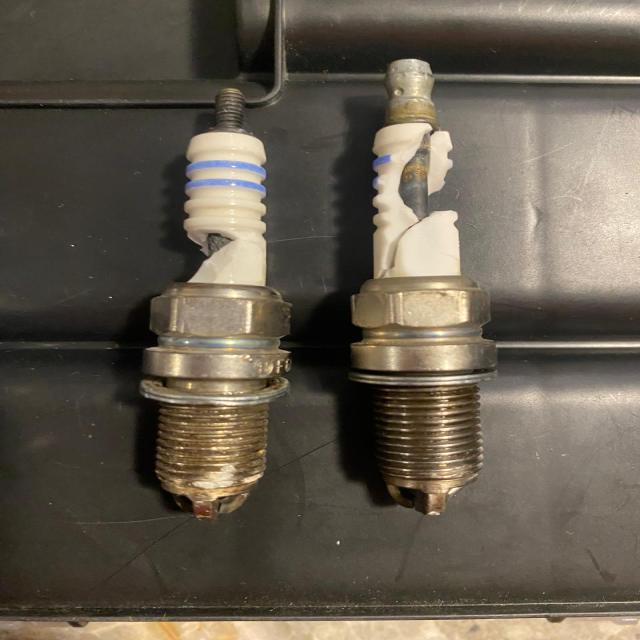damaged_spark-plug: (130, 74, 295, 522), (352, 45, 504, 522)
